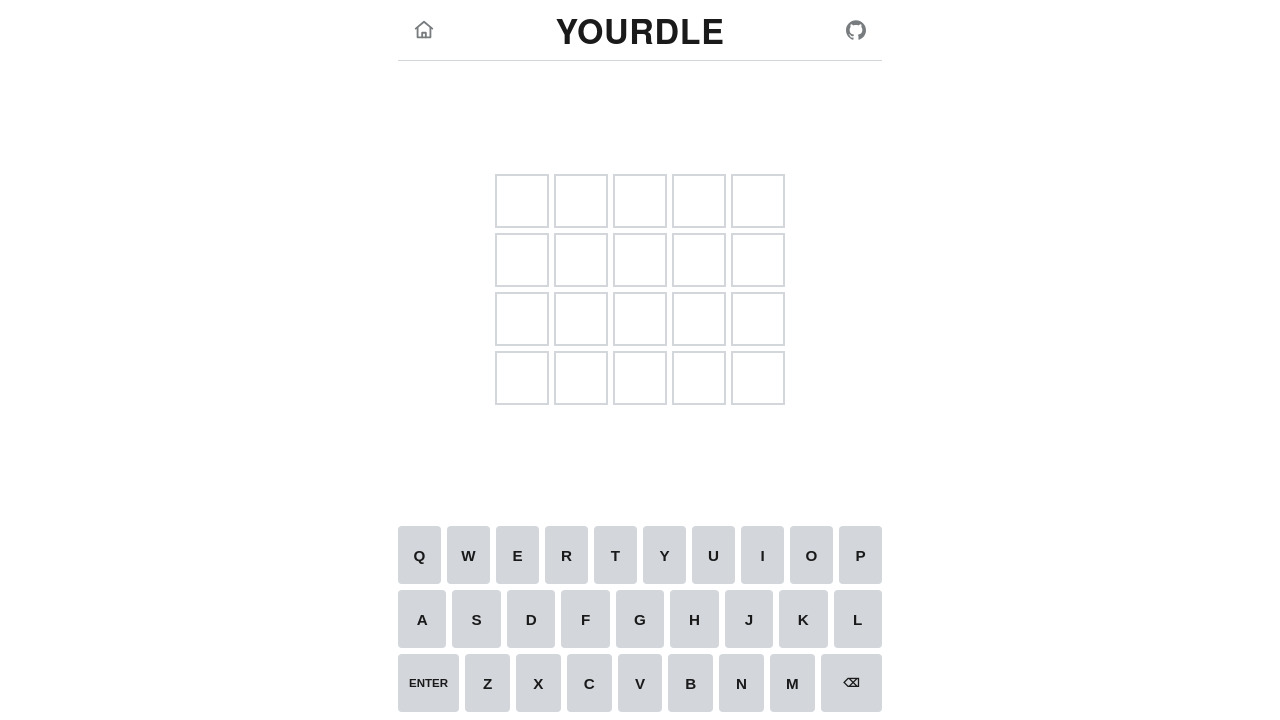
Test case: Game result modal › closes on the close button and on Escape
The image size is (1280, 720).
Type keys "scary{Enter}"
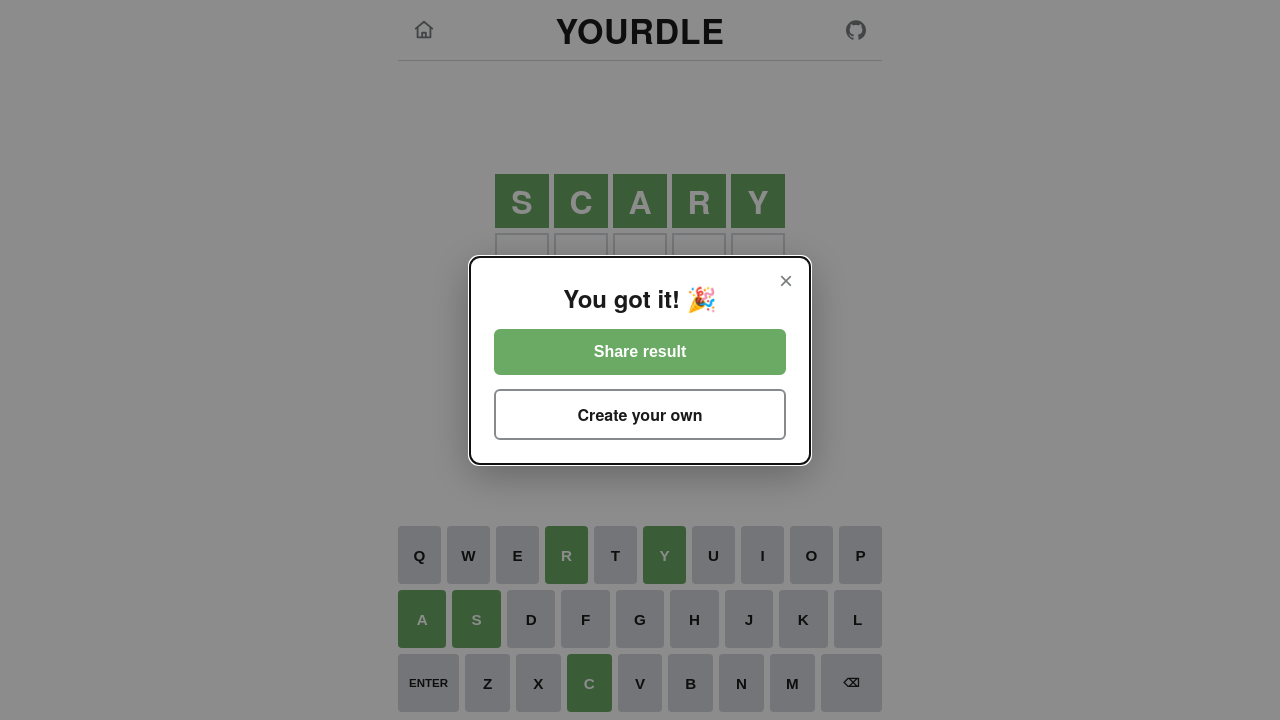
Now the heading "You got it! 🎉" is shown, box [563,280,717,314]
Click the button named "Close". click: click(786, 280)
box: [768,262,804,298]
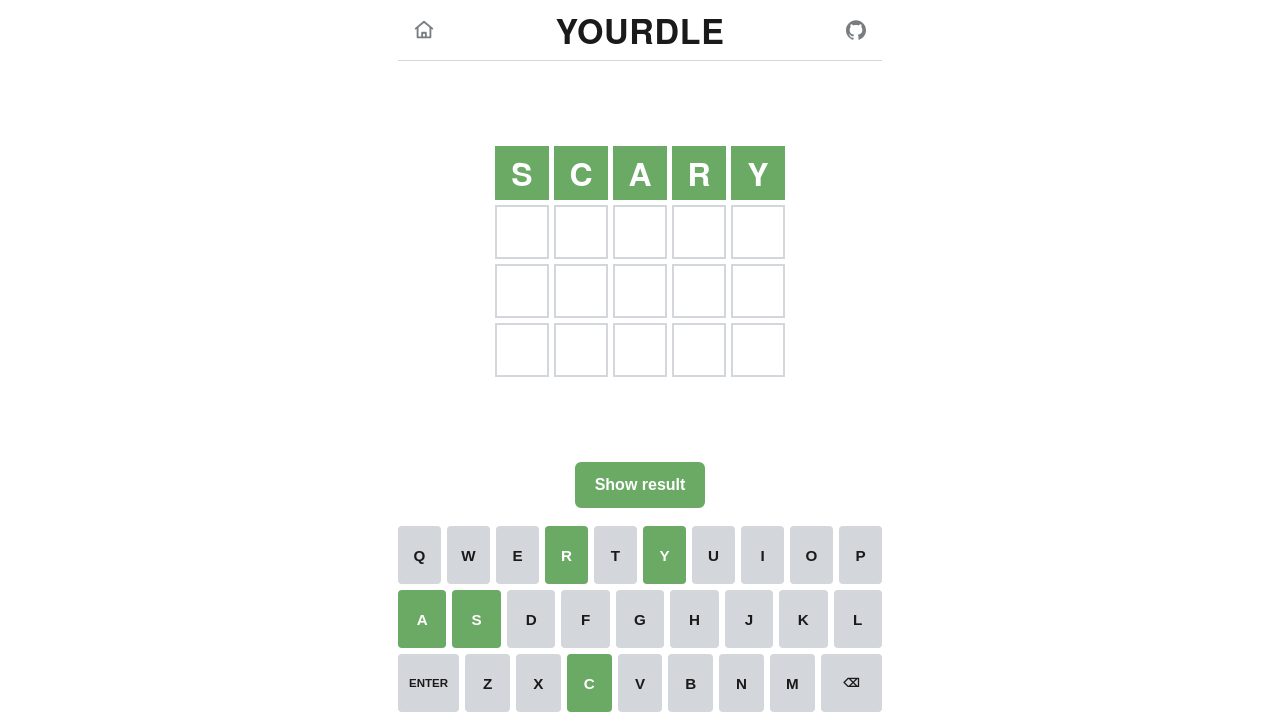
Now the dialog is gone
Click the button "Show result". click: click(640, 485)
box: [575,462,705,508]
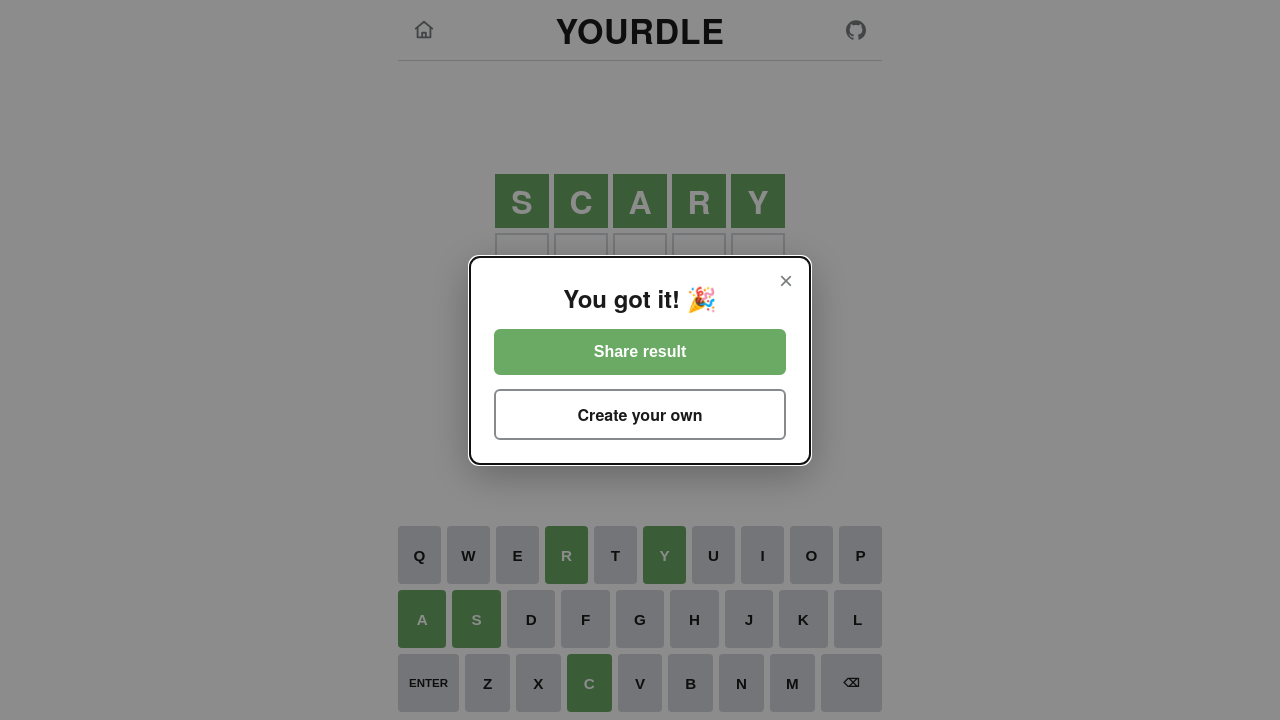
Now the dialog is shown, box [470,256,810,464]
Press Escape
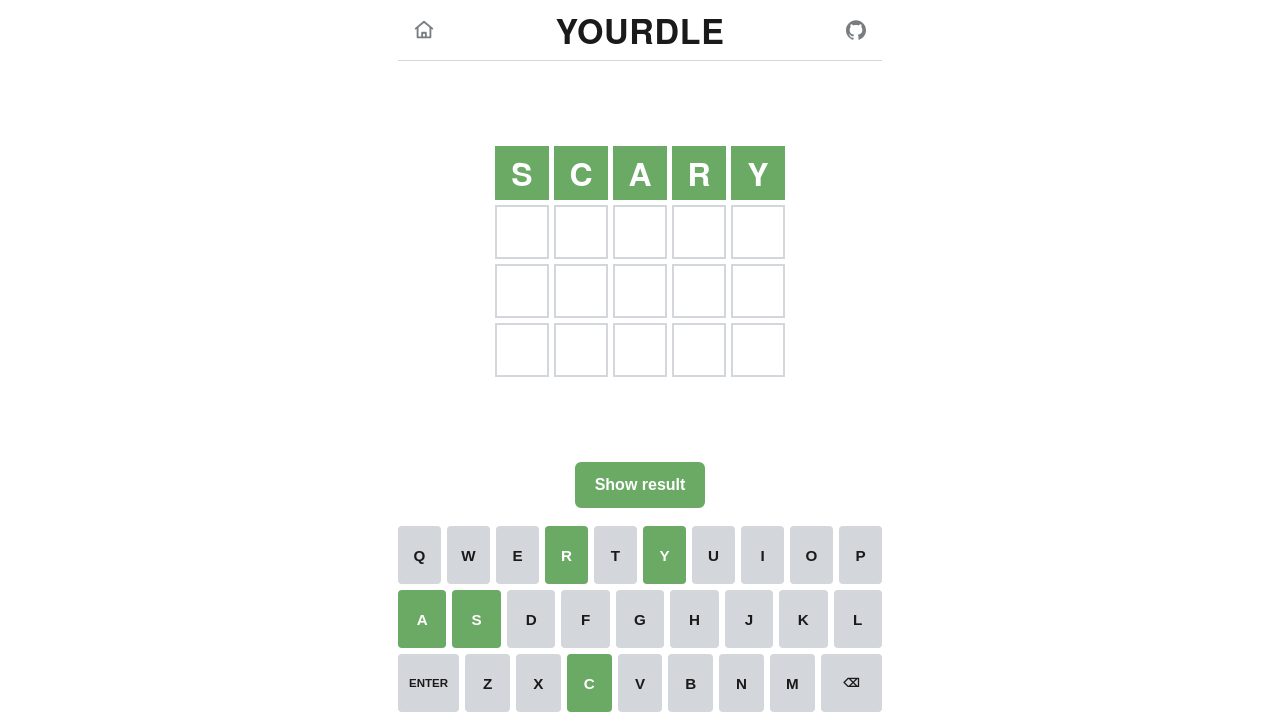
Now the dialog is gone
